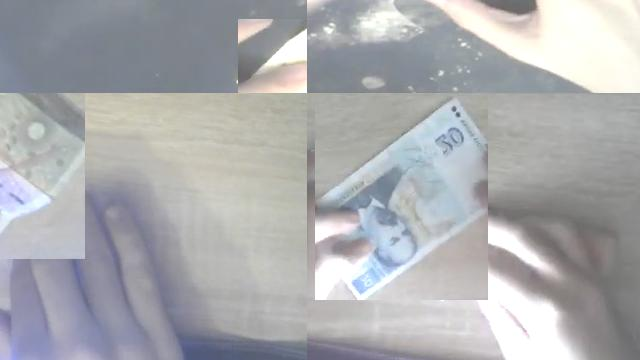20leva: (315, 96, 488, 300)
